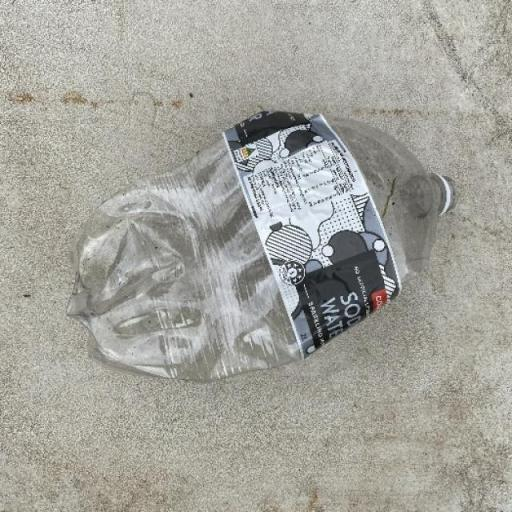plastic: (64, 108, 452, 382)
